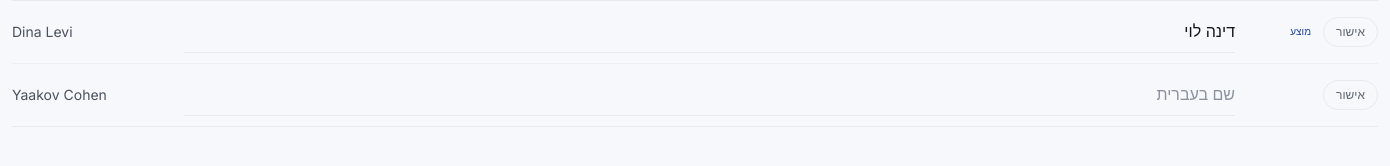
Scenario: /admin/names — a refused save › says so in he when the action never answers at all
This screenshot has width=1390, height=166.
Click the button "אישור" next to "מוצע": (1350, 32) [1323,17,1378,47]
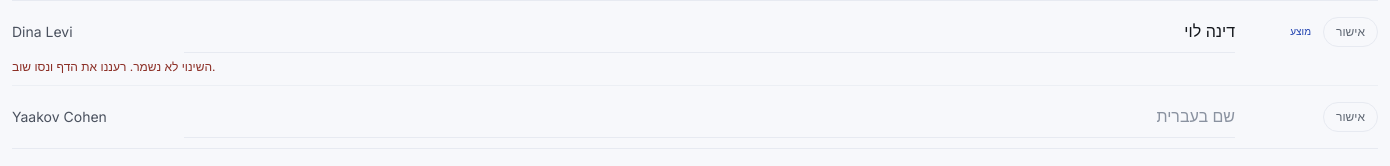
Check: the text "השינוי לא נשמר. רעננו את הדף ונסו שוב." is shown, box [12,59,216,74]
